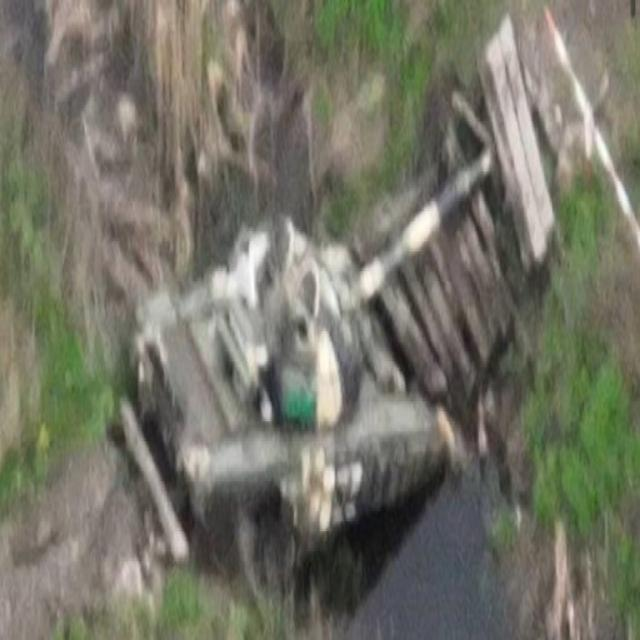TANK: (132, 146, 496, 586)
